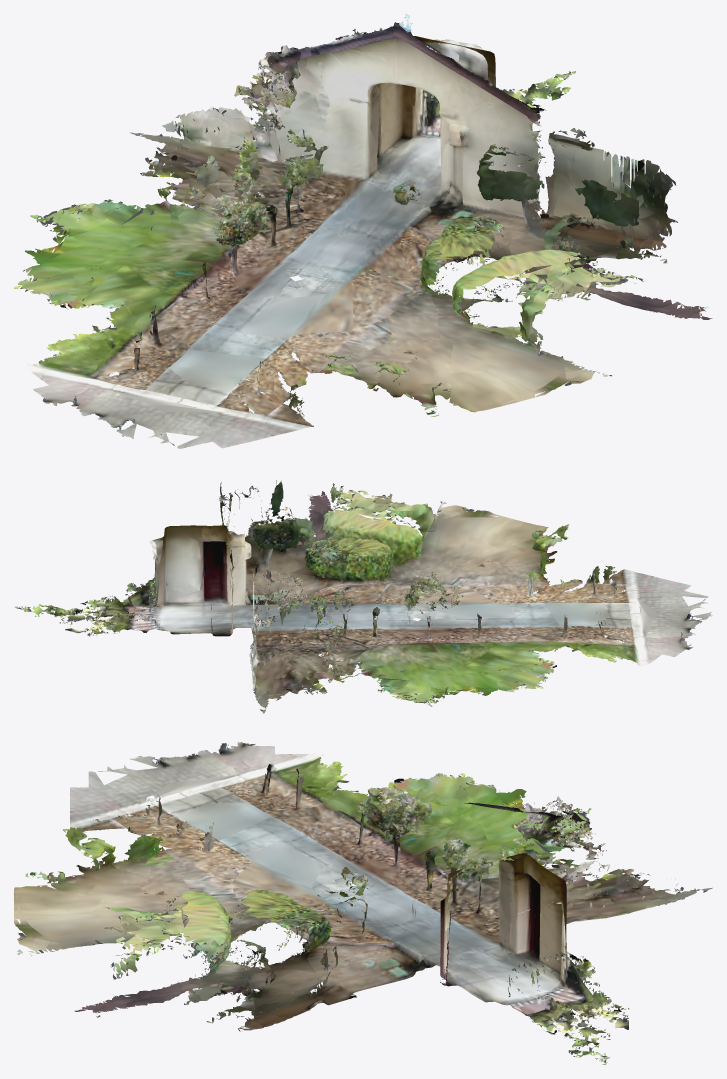
File: mission-rose.glb
3 renders of one model, top to bottom at view 1: azimuth 30°, elevation 25°; view 2: azimuth 150°, elevation 25°; view 3: azimuth 270°, elevation 25°, orthographic. The views are drawn at different scales.
Bounding box in the file's own units: 17.25 × 4.41 × 15.
1 material, 1 textured.
